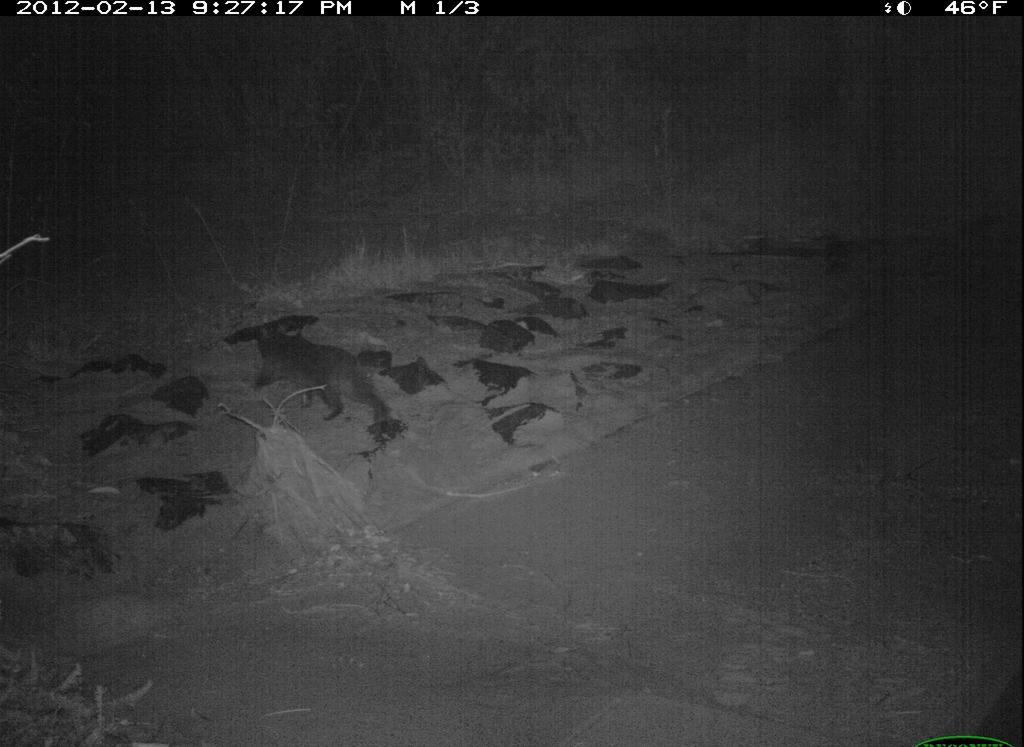cat: (248, 322, 393, 432)
